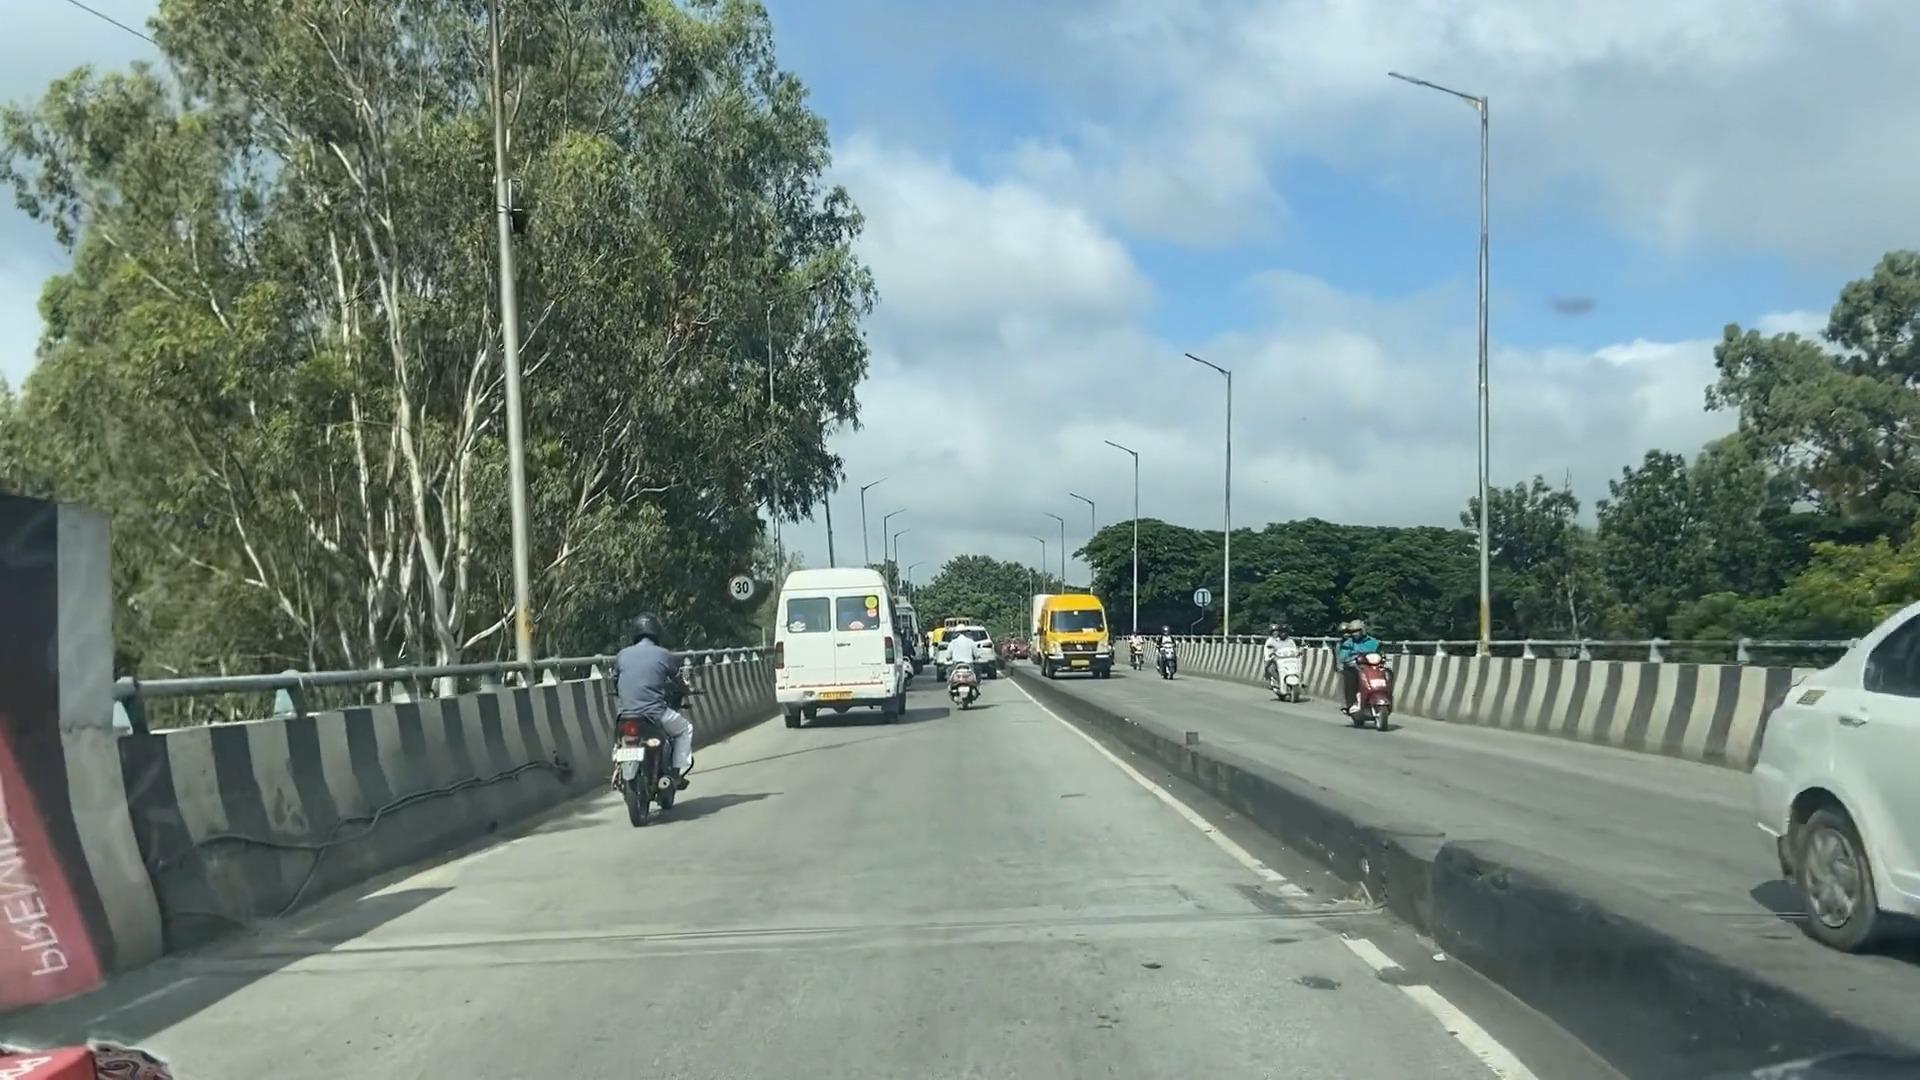HMV: (761, 566, 897, 732)
LMV: (608, 604, 688, 831), (944, 620, 980, 711)
SpeedBump: (323, 914, 1348, 956)
